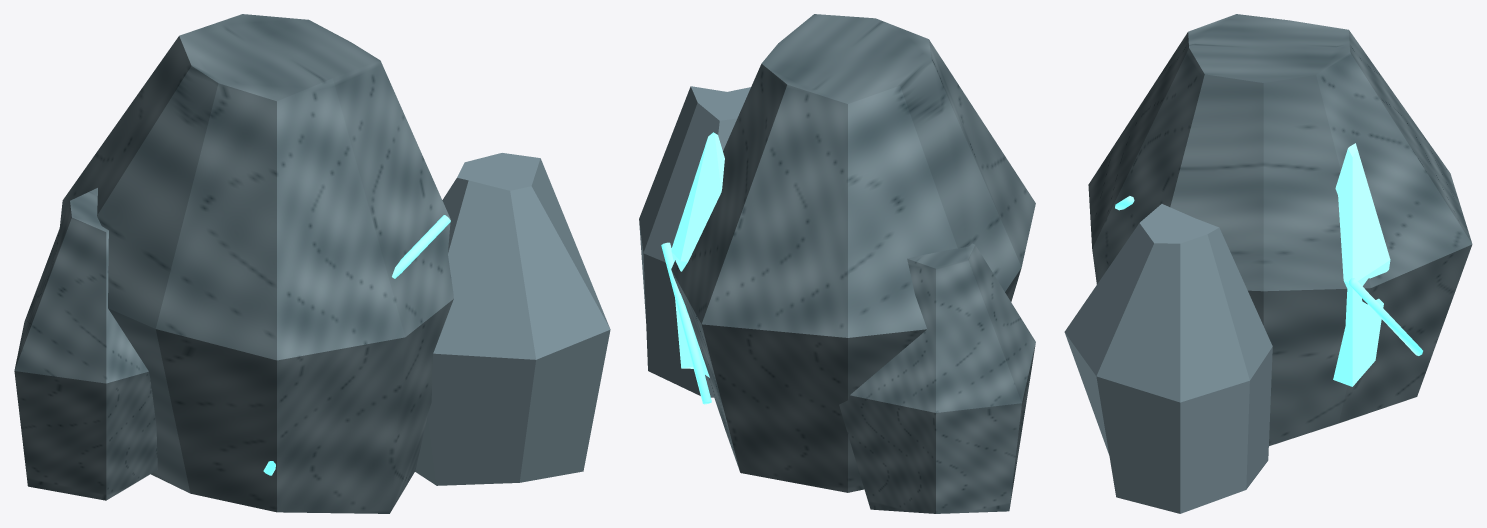
The model's file is rock.glb.
The picture shows the model from 3 angles, left to right: view 1: azimuth 30°, elevation 25°; view 2: azimuth 150°, elevation 25°; view 3: azimuth 270°, elevation 25°; orthographic projection. The views are drawn at different scales.
Parts seen in each view (by area): view 1: RF_rock-main, RF_rock-side-a, RF_rock-side-b, RF_rock-fissure-1; view 2: RF_rock-main, RF_rock-side-b, RF_rock-side-a, RF_rock-vein, RF_rock-fissure-2; view 3: RF_rock-main, RF_rock-side-a, RF_rock-vein, RF_rock-fissure-2.
Part boxes in pixels (box(x1,y1,x2,y2)): RF_rock-main: box(59, 14, 453, 513); RF_rock-side-a: box(415, 153, 610, 485); RF_rock-side-b: box(14, 188, 157, 500); RF_rock-fissure-1: box(392, 215, 450, 278); RF_rock-main: box(671, 14, 1035, 492); RF_rock-side-b: box(839, 243, 1035, 513); RF_rock-side-a: box(639, 86, 750, 397); RF_rock-vein: box(671, 132, 724, 377); RF_rock-fissure-2: box(661, 242, 711, 404); RF_rock-main: box(1088, 14, 1472, 445); RF_rock-side-a: box(1064, 204, 1272, 513); RF_rock-vein: box(1333, 143, 1390, 386); RF_rock-fissure-2: box(1348, 278, 1422, 355).
Size of the model in its own units: 0.8971 by 0.7158 by 0.734.
4 materials, 1 textured.
